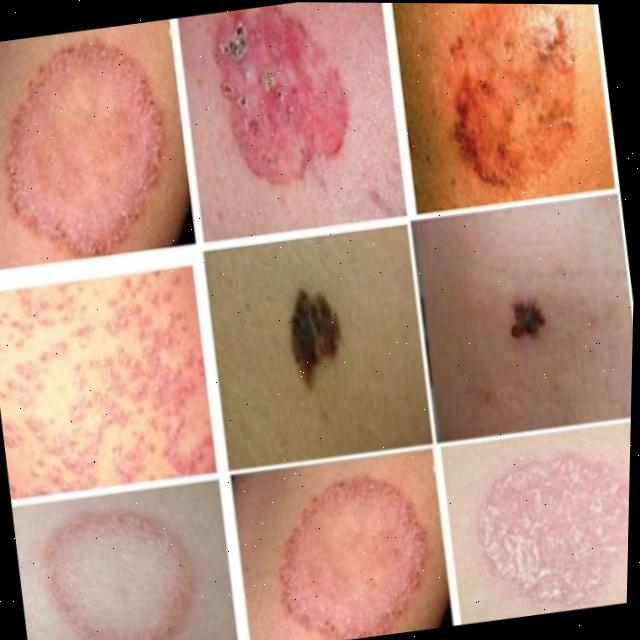Eczema: (469, 438, 630, 613)
